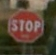stop: (7, 9, 44, 43)
